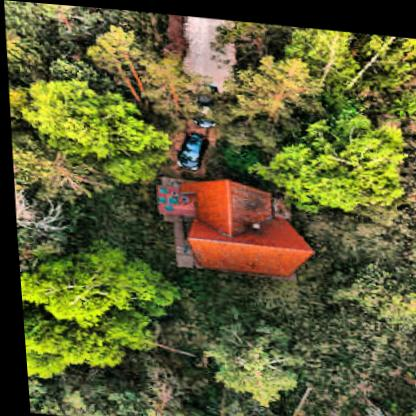tree-top: (265, 91, 405, 212), (24, 73, 134, 154), (201, 317, 297, 395), (40, 240, 152, 306), (18, 314, 119, 382), (231, 50, 324, 117), (334, 257, 416, 325), (342, 24, 416, 96), (82, 16, 155, 78), (279, 20, 356, 74), (32, 145, 95, 192), (39, 292, 105, 326), (97, 152, 153, 185), (16, 267, 53, 305), (385, 79, 416, 114)
